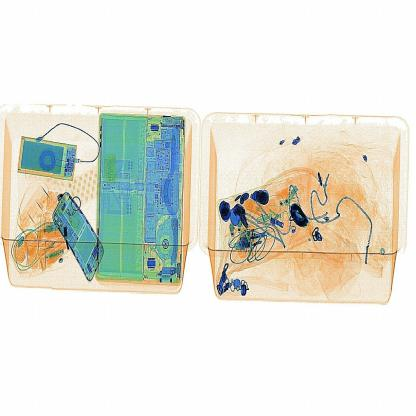scissors: (284, 200, 321, 242)
